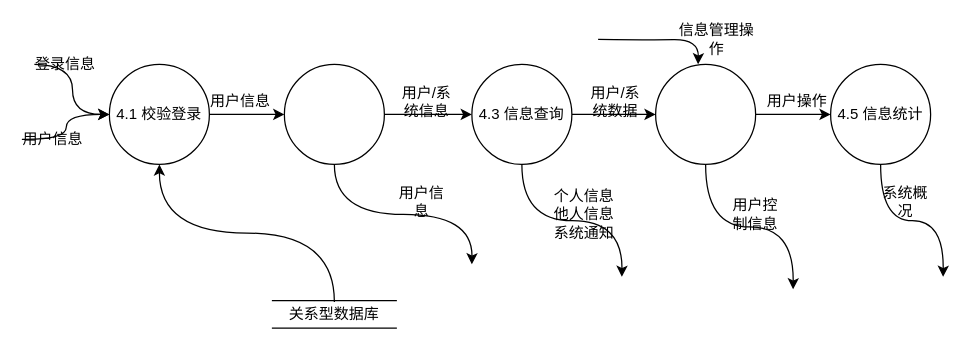
The diagram is 970 pixels wide and 350 high, and some of its shapes have lost their labels. The centre of each missing label's shape, as x and y in pixels:
"4.2 保存用户信息" goes at point (333, 113).
"4.4 操作记录" goes at point (705, 113).
